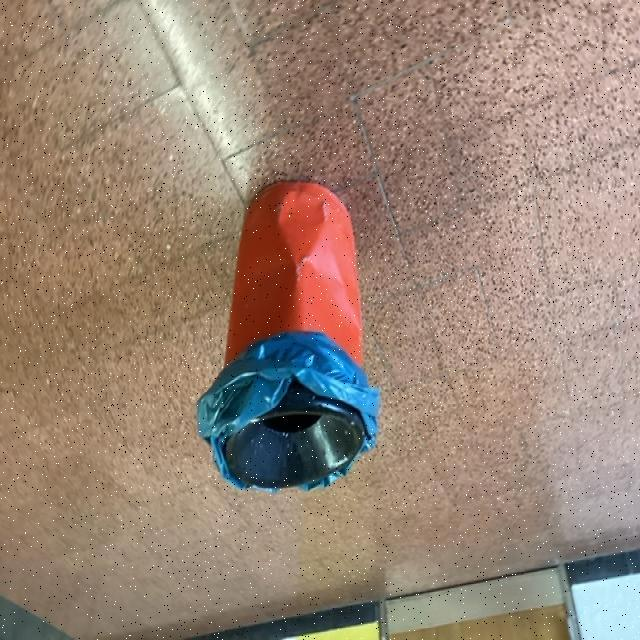garbage container: (159, 133, 419, 537)
